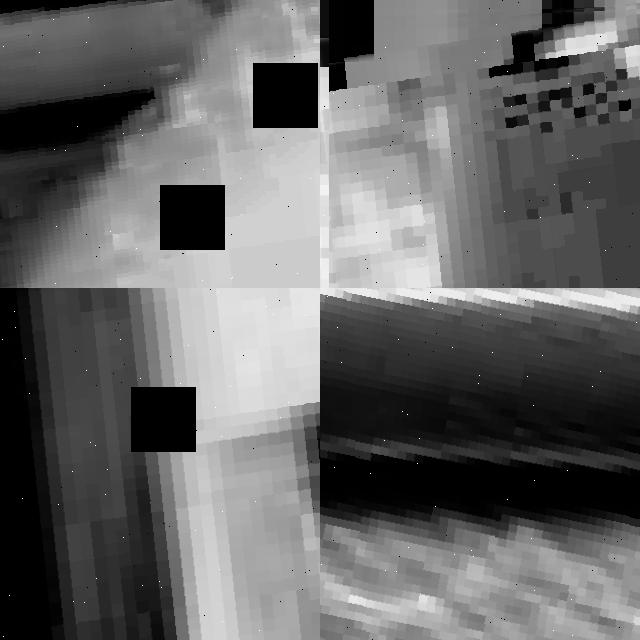arms: (0, 288, 320, 640), (320, 288, 640, 640), (320, 288, 640, 640), (0, 0, 320, 288), (329, 0, 640, 288), (0, 288, 295, 521)
